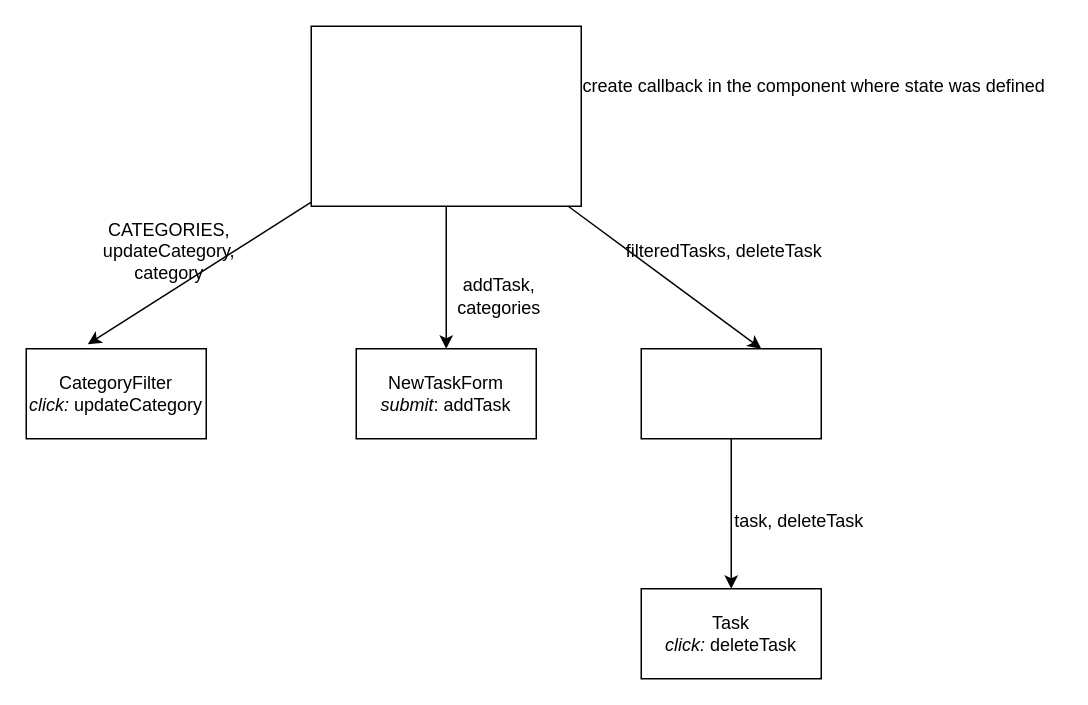
The diagram is 1088 pixels wide and 705 high, and some of its shapes have lost their labels. The centre of each missing label's shape, as x and y in pixels:
"App state: tasks, category cb: deleteTask db: addTask cb: updateCategory" goes at (x=445, y=115).
"TaskList" goes at (x=730, y=393).
